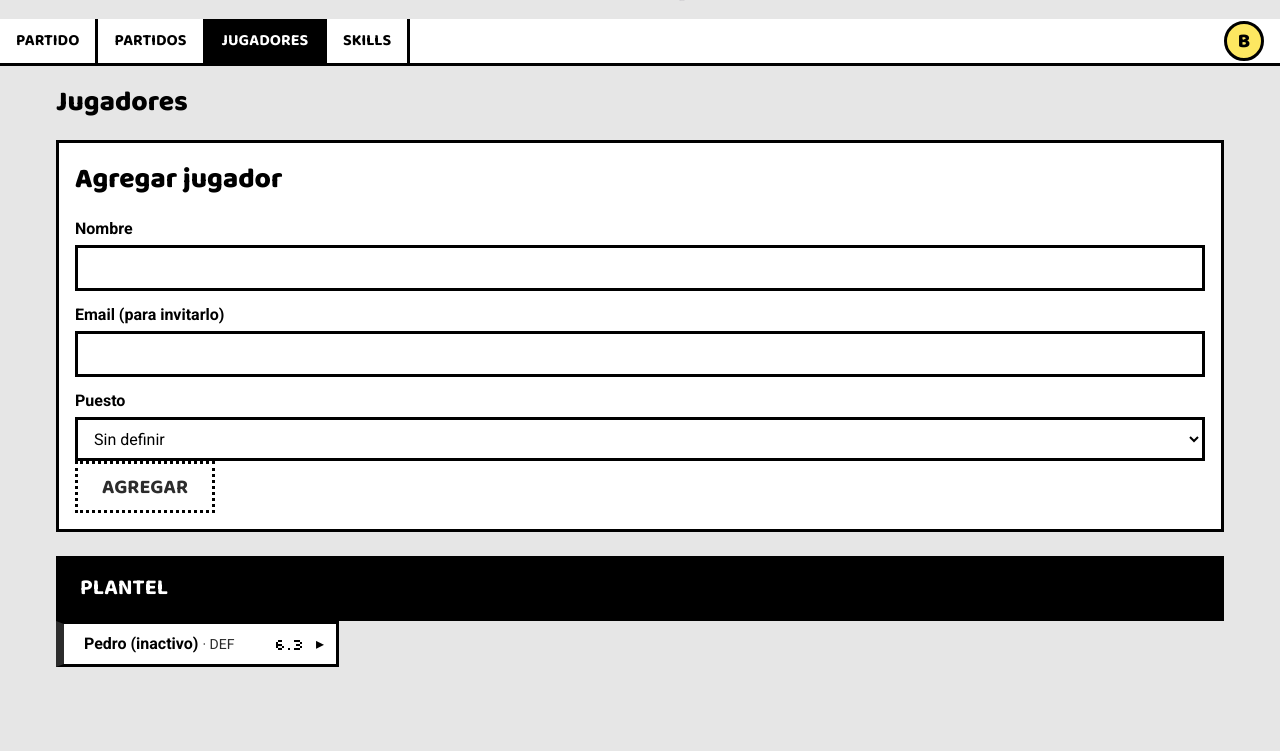
Test: plantel (admin) › muestra el error al editar y marca los inactivos
Click the button "Pedro (inactivo) · DEF 6.3 ▸" at (198, 644), box x1=56 y1=621 x2=339 y2=667
(page scrolled)
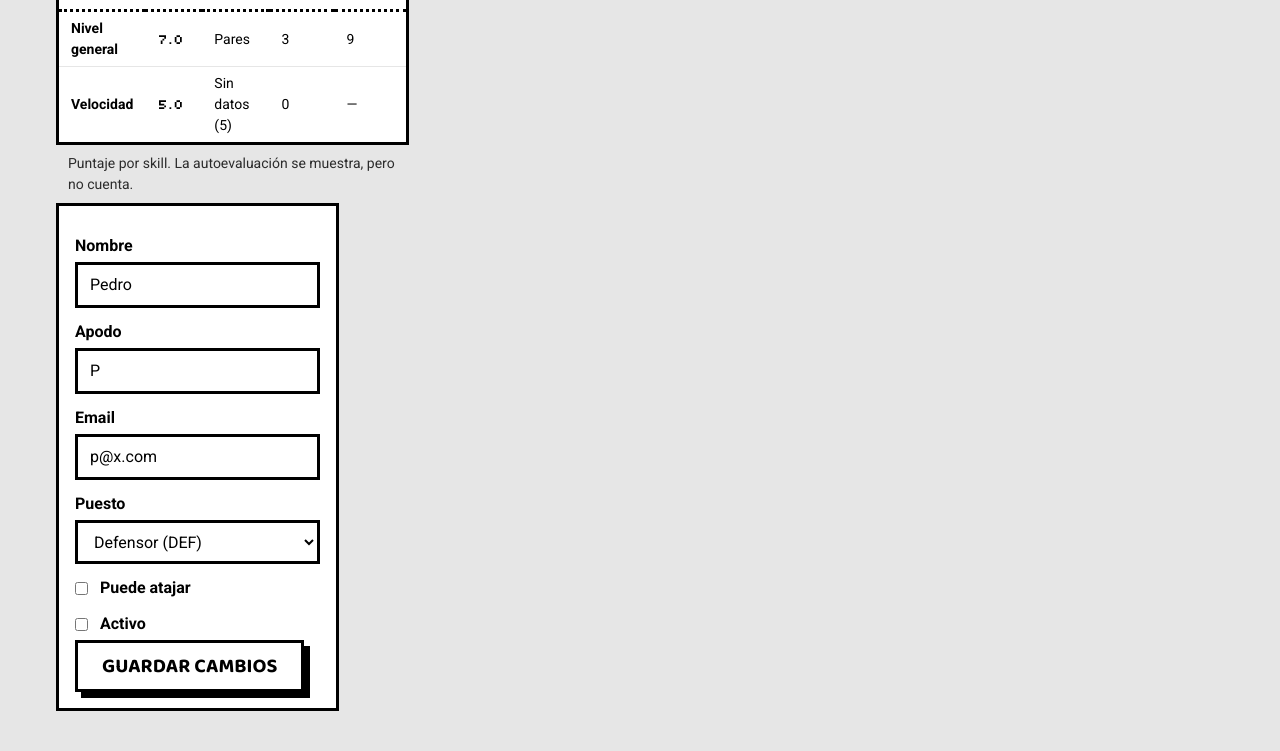
Result: the field labelled "Email" holds "p@x.com"
Clear the field labelled "Email" at (198, 457), box x1=75 y1=434 x2=320 y2=480
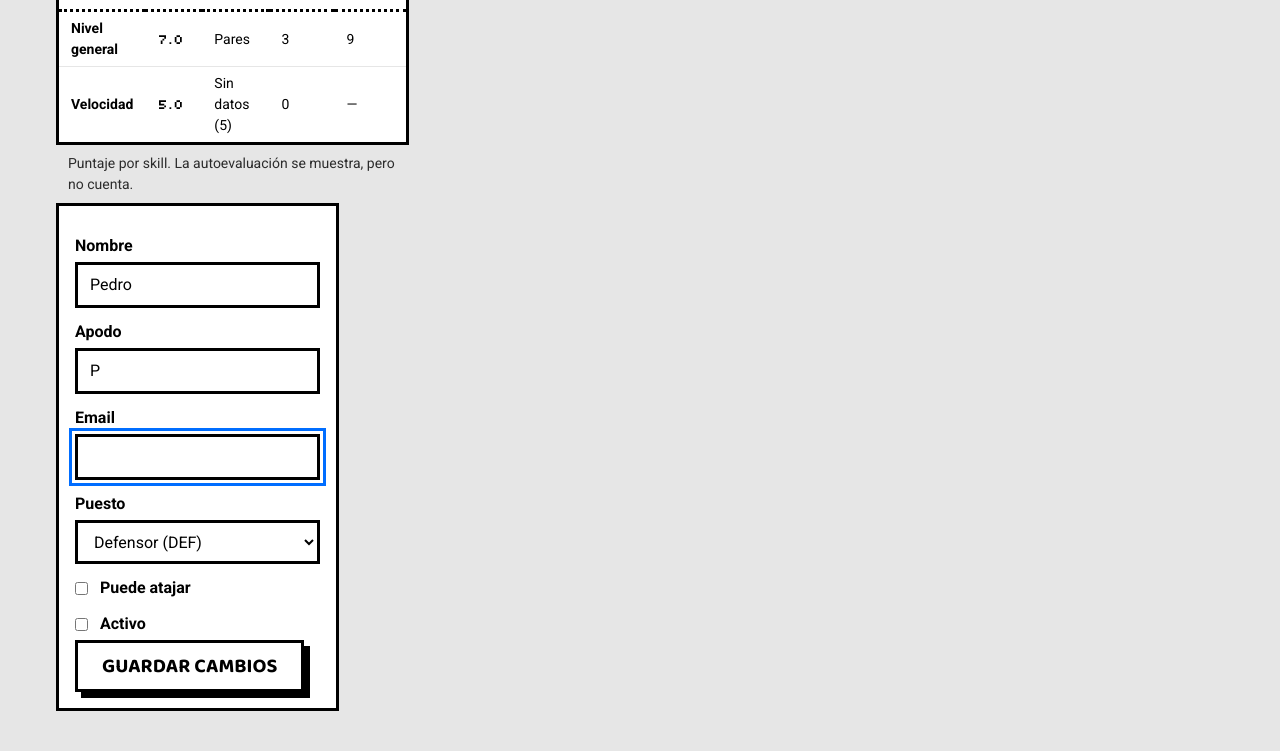
Clear the field labelled "Apodo" at (198, 371), box x1=75 y1=348 x2=320 y2=394
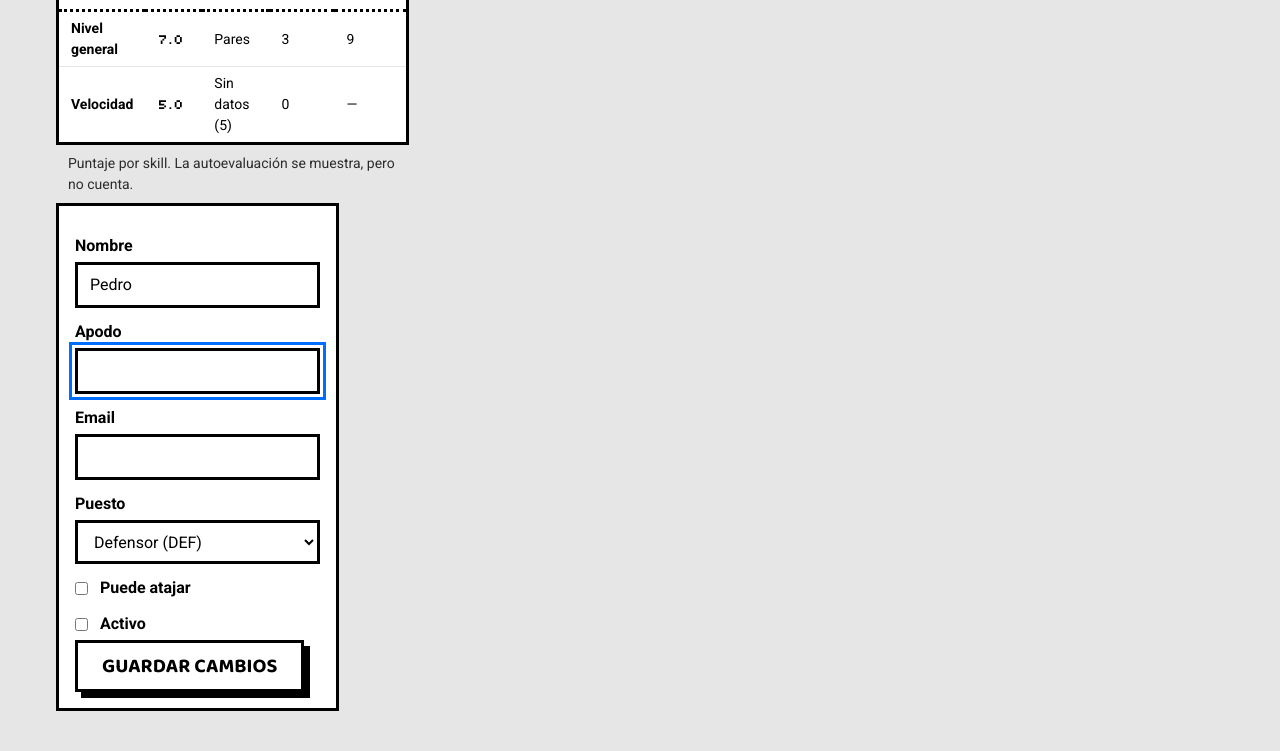
Select "Sin definir" in the dropdown labelled "Puesto" at (198, 542), box x1=75 y1=520 x2=320 y2=564
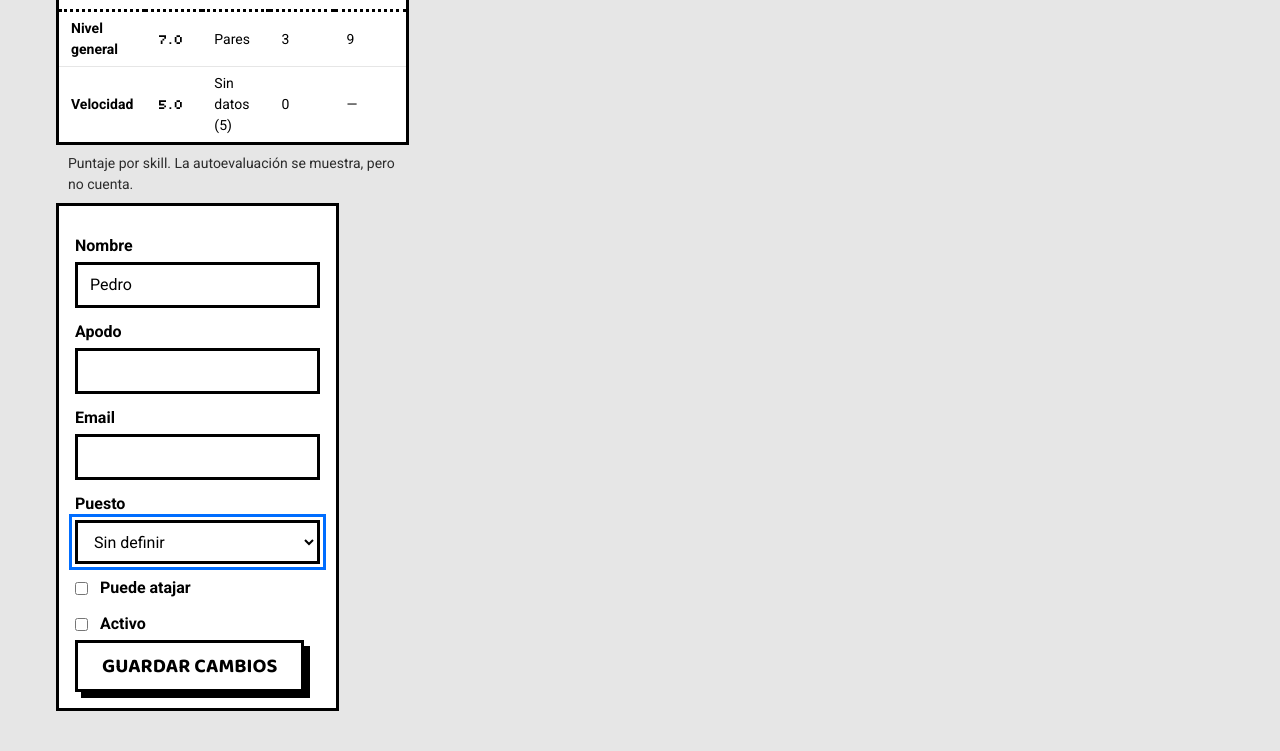
Click the button "Guardar cambios" at (190, 666), box x1=75 y1=640 x2=304 y2=692
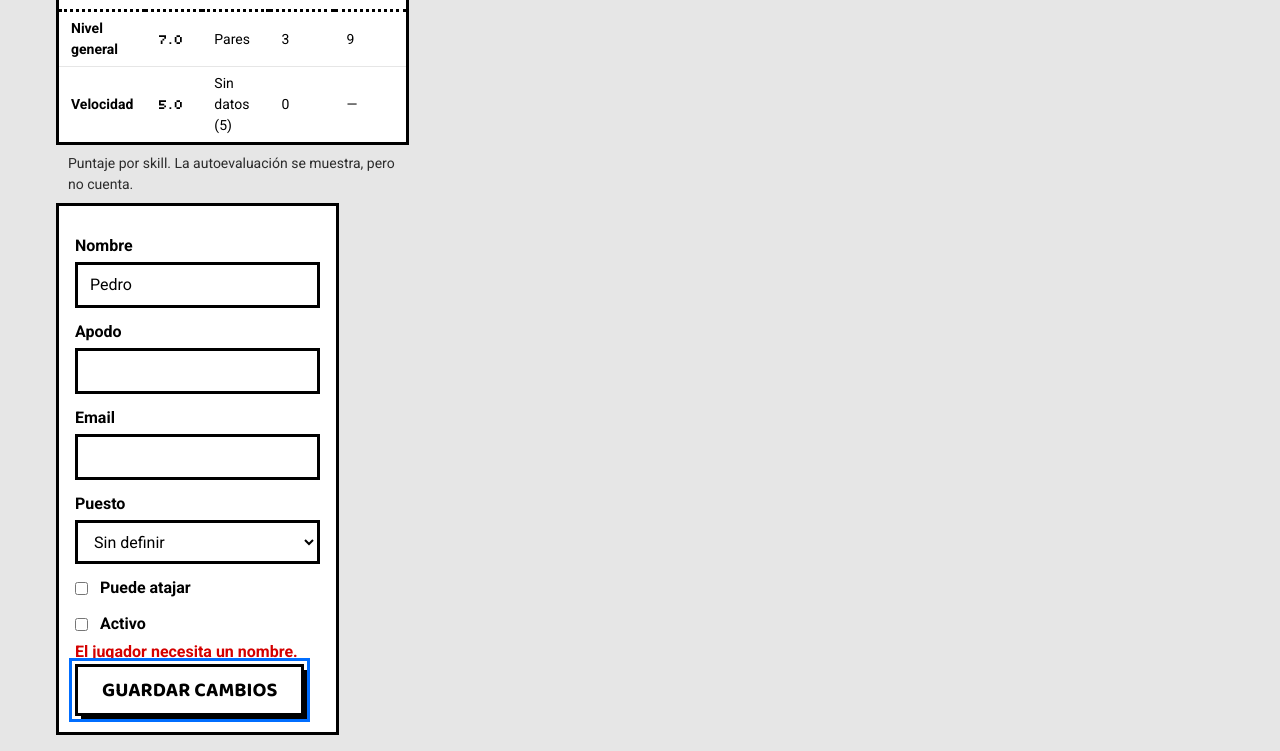
Result: the text "El jugador necesita un nombre." is shown at x1=75 y1=640 x2=320 y2=664
